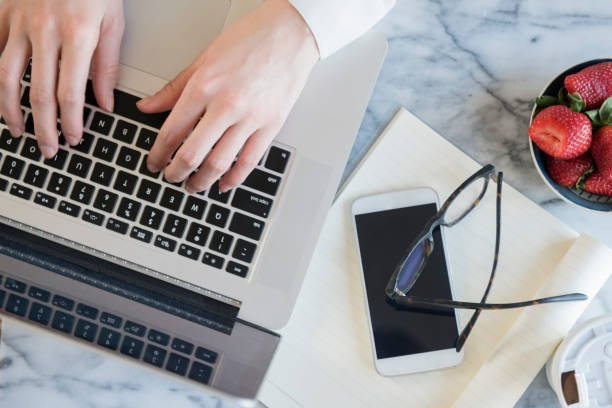keyboard: (1, 51, 293, 278)
phone: (349, 186, 467, 378)
